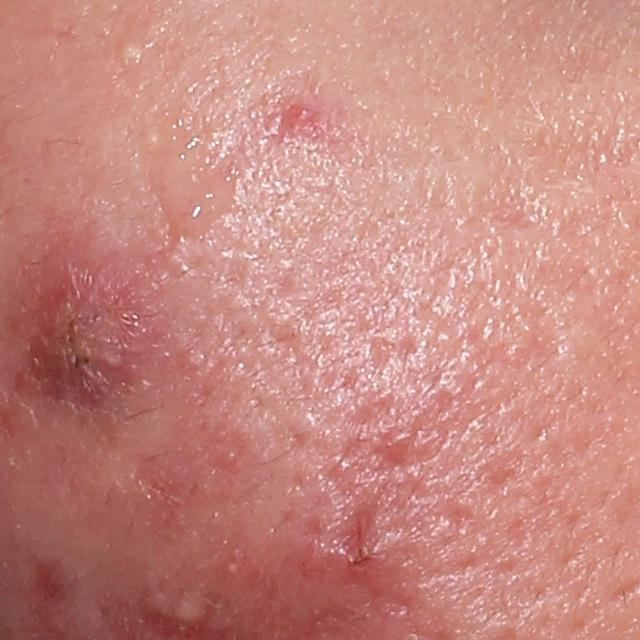comedo: (113, 37, 144, 63)
hypertrophic_scar: (174, 589, 209, 625)
nodule: (16, 243, 167, 430)
papule: (286, 102, 318, 126)
